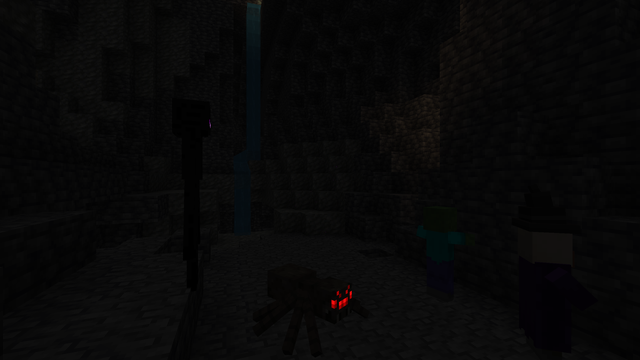araignees: (268, 258, 364, 349)
endermens: (166, 90, 213, 292)
sorcieres: (508, 220, 579, 359)
zombies: (419, 207, 460, 304)
